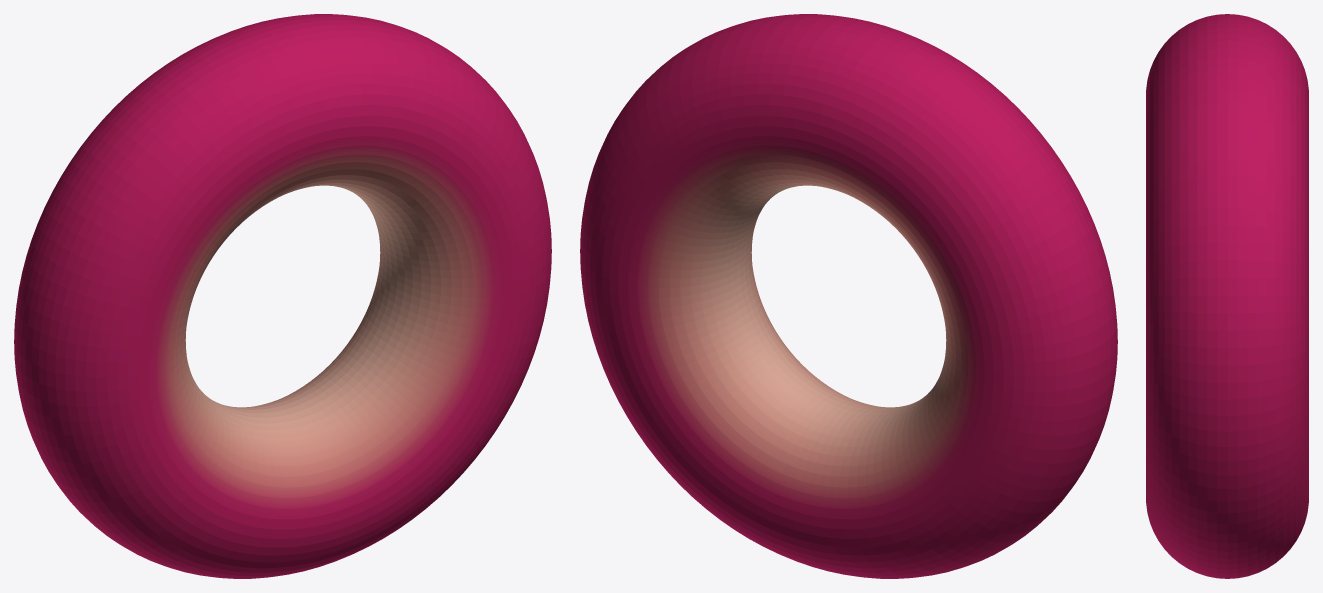
3 renders of one model, left to right at view 1: azimuth 30°, elevation 25°; view 2: azimuth 150°, elevation 25°; view 3: azimuth 270°, elevation 25°, orthographic. The views are drawn at different scales.
Parts seen in each view (by area): view 1: world; view 2: world; view 3: world.
Part boxes in pixels (bbox=[...]): world: bbox=[14, 14, 551, 578]; world: bbox=[580, 14, 1117, 578]; world: bbox=[1146, 14, 1308, 578].
Bounding box in the file's own units: 30 × 30 × 8.65.
